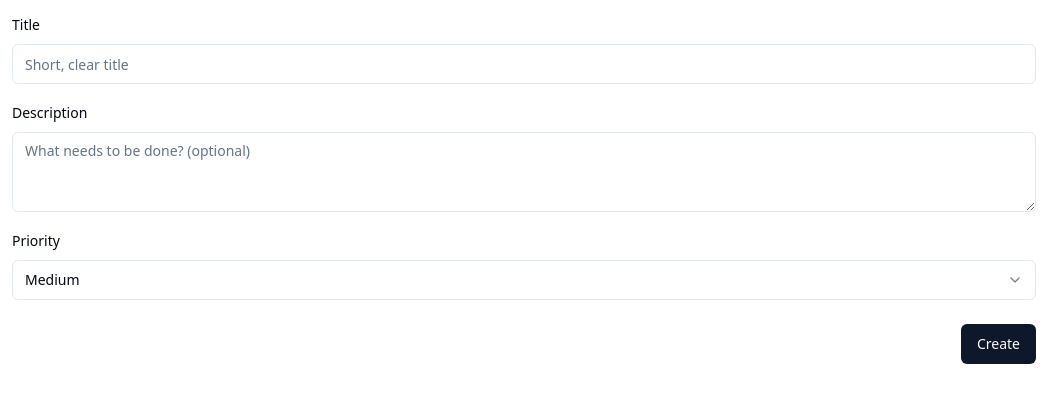
TaskForm › shows required error when title is empty
Click the button "Create" at (998, 344), box 961,324 -> 1036,364
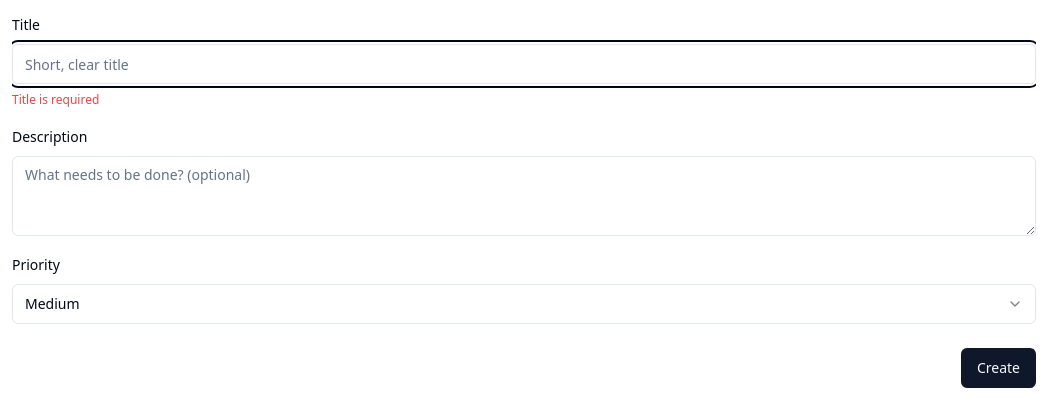
expect the message reads "Title is required": met, box 12,91 -> 99,108
